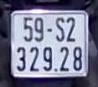2: (58, 45, 70, 72), (66, 14, 76, 43), (29, 46, 40, 72)
3: (15, 45, 28, 74)
5: (22, 17, 34, 44)
8: (72, 44, 83, 73)
9: (41, 45, 54, 73), (33, 15, 45, 44)
S: (54, 16, 66, 43)
